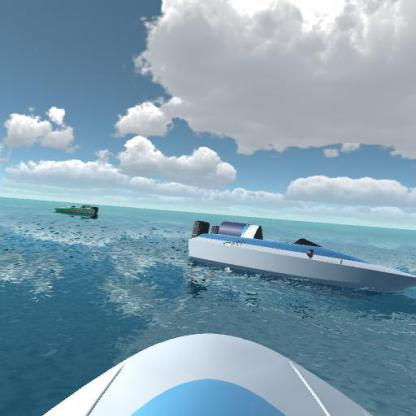usv0: (53, 197, 102, 223)
usv1: (182, 210, 415, 308)
